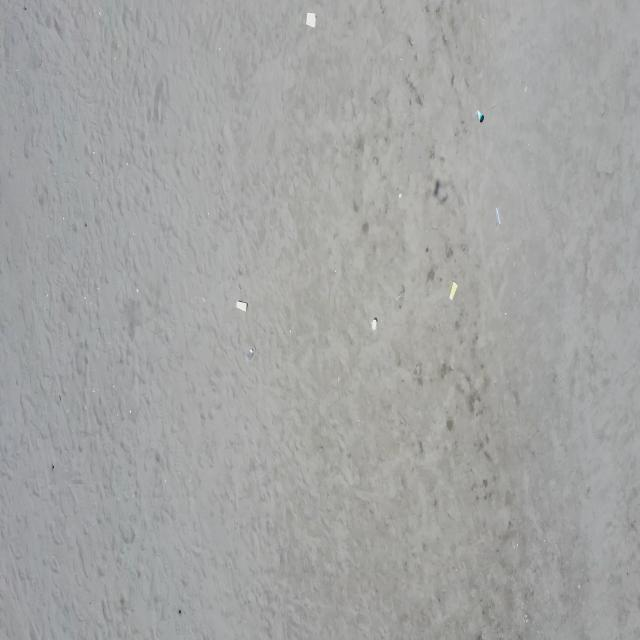take-away-containers: (306, 12, 318, 27)
takeaway-cup: (449, 281, 459, 300), (246, 345, 256, 362), (494, 207, 502, 226), (236, 301, 248, 313), (476, 110, 485, 124), (370, 318, 378, 331)
